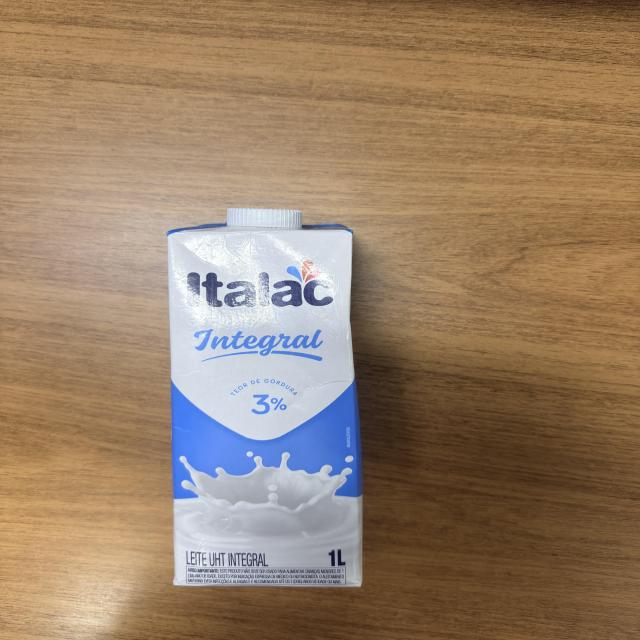Caixa de Leite: (168, 220, 365, 582)
